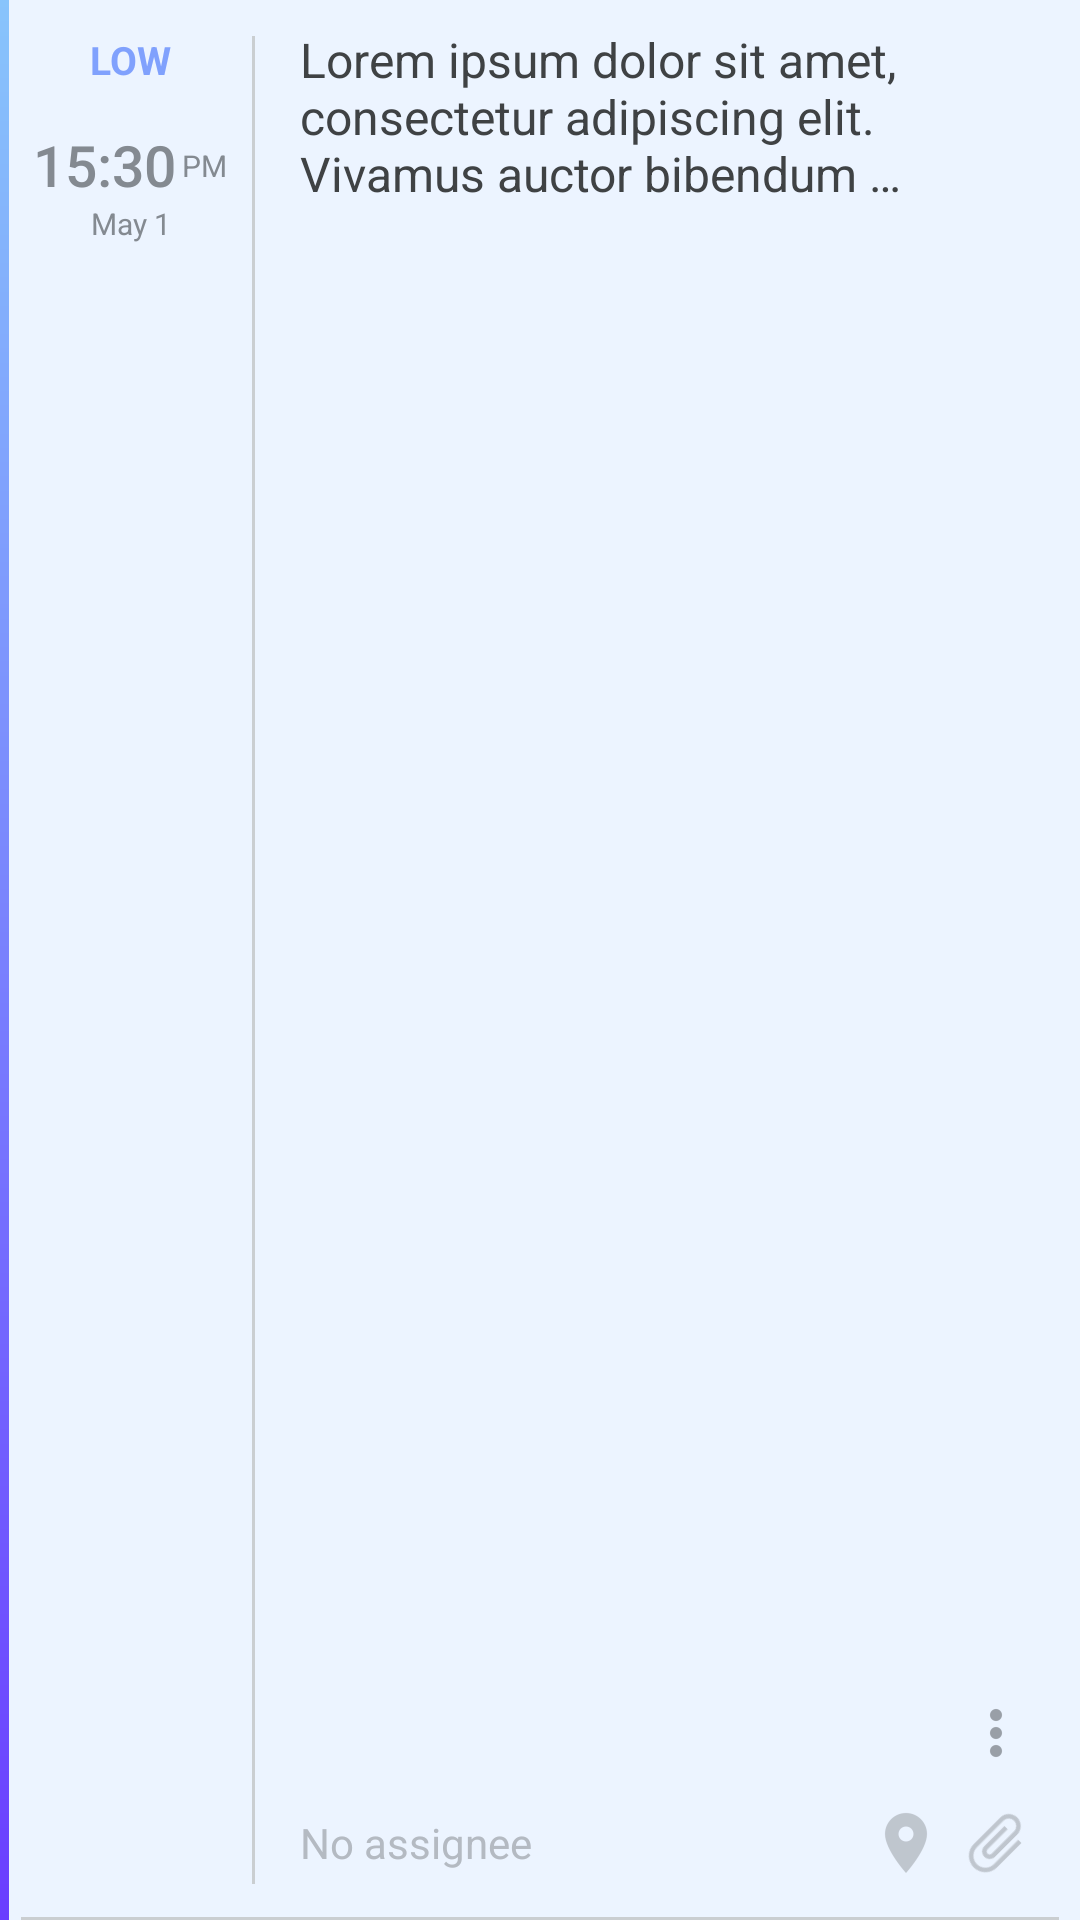

Point at icon controls on the screen. Image size 1080*1920, points as [x,y].
task location: [906,1842]
task more: [996,1733]
